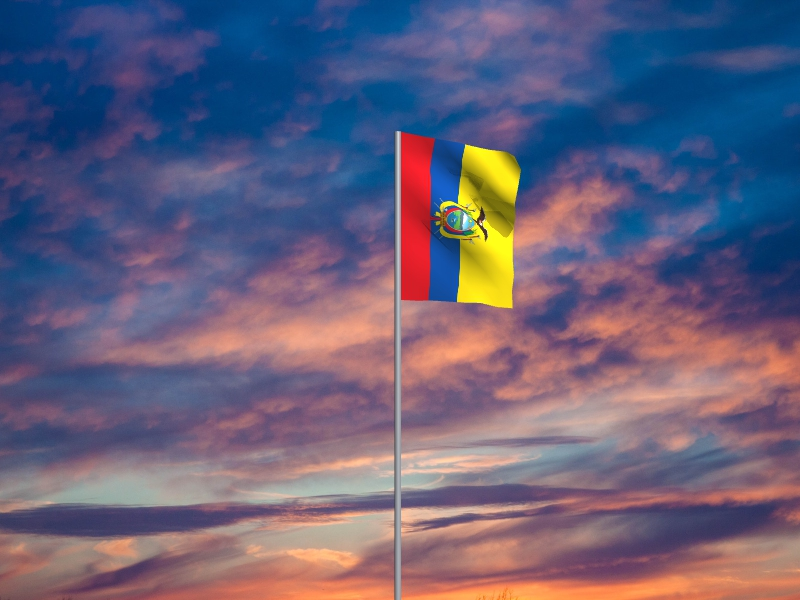ec: (402, 133, 523, 310)
